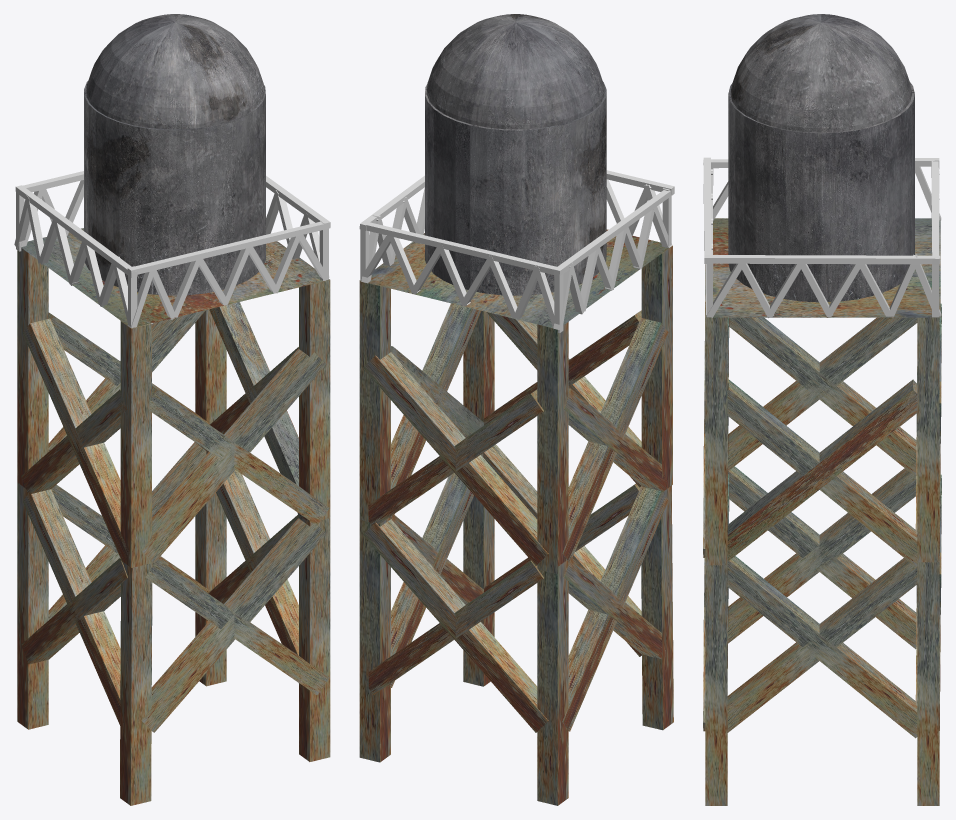
The model's file is водонаорк.fbx.
The picture shows the model from 3 angles, left to right: view 1: azimuth 30°, elevation 25°; view 2: azimuth 150°, elevation 25°; view 3: azimuth 270°, elevation 25°; orthographic projection. The views are drawn at different scales.
Visible parts, largest first — view 1: Cylinder.001, Sphere, Cube.020, Cube.023, Cube.006, Cube.001, Cube.014, Cube, Cube.007, Cube.008, Cube.003, Cube.005 (+18 smaller); view 2: Cylinder.001, Sphere, Cube.017, Cube.022, Cube.005, Cube.003, Cube.009, Cube.012, Cube.002, Cube.004, Cube.001, Cube.006 (+21 smaller); view 3: Cylinder.001, Sphere, Cube.015, Cube.010, Cube.016, Cube.011, Plane, Cube.007, Cube.004, Cube.002, Cube.012, Cube (+17 smaller).
Part boxes in pixels (bbox=[...]): Cylinder.001: bbox=[84, 81, 265, 295]; Sphere: bbox=[86, 14, 264, 129]; Cube.020: bbox=[141, 518, 326, 732]; Cube.023: bbox=[141, 348, 326, 563]; Cube.006: bbox=[120, 321, 151, 567]; Cube.001: bbox=[120, 561, 152, 805]; Cube.014: bbox=[23, 318, 128, 562]; Cube: bbox=[299, 518, 330, 761]; Cube.007: bbox=[299, 280, 330, 522]; Cube.008: bbox=[23, 489, 120, 725]; Cube.003: bbox=[17, 482, 48, 729]; Cube.005: bbox=[17, 248, 48, 488]; Cylinder.001: bbox=[425, 82, 606, 295]; Sphere: bbox=[426, 14, 604, 129]; Cube.017: bbox=[363, 519, 548, 732]; Cube.022: bbox=[363, 352, 548, 565]; Cube.005: bbox=[537, 322, 568, 573]; Cube.003: bbox=[537, 560, 568, 805]; Cube.009: bbox=[562, 486, 668, 731]; Cube.012: bbox=[562, 318, 668, 562]; Cube.002: bbox=[359, 518, 390, 762]; Cube.004: bbox=[359, 281, 390, 524]; Cube.001: bbox=[641, 485, 673, 730]; Cube.006: bbox=[641, 245, 672, 491]; Cylinder.001: bbox=[728, 82, 914, 302]; Sphere: bbox=[730, 14, 911, 132]; Cube.015: bbox=[727, 379, 917, 560]; Cube.010: bbox=[727, 556, 917, 738]; Cube.016: bbox=[727, 379, 917, 566]; Cube.011: bbox=[727, 558, 917, 732]; Plane: bbox=[705, 218, 940, 317]; Cube.007: bbox=[705, 307, 727, 565]; Cube.004: bbox=[917, 317, 939, 562]; Cube.002: bbox=[917, 562, 939, 805]; Cube.012: bbox=[729, 317, 916, 476]; Cube: bbox=[705, 565, 727, 805].
Bounding box in the file's own units: 478 × 1633 × 481.
28 materials, 28 textured.
